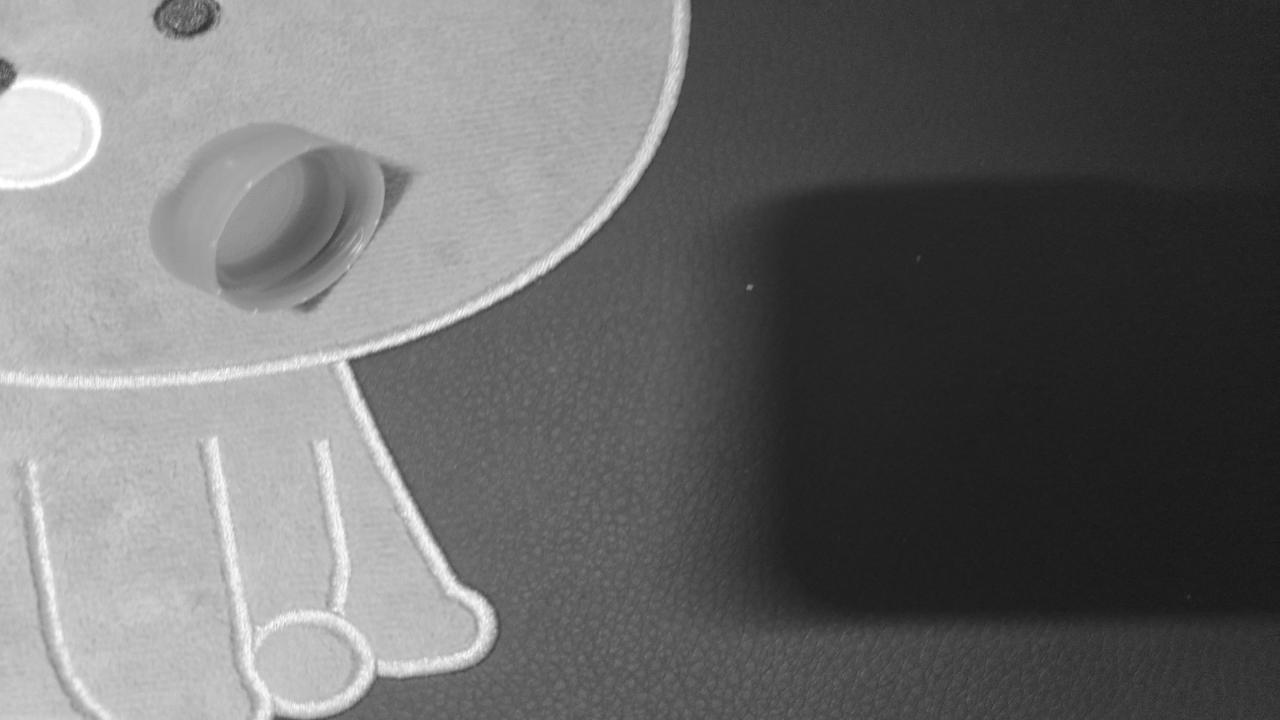bottle_cap: (154, 126, 384, 307)
